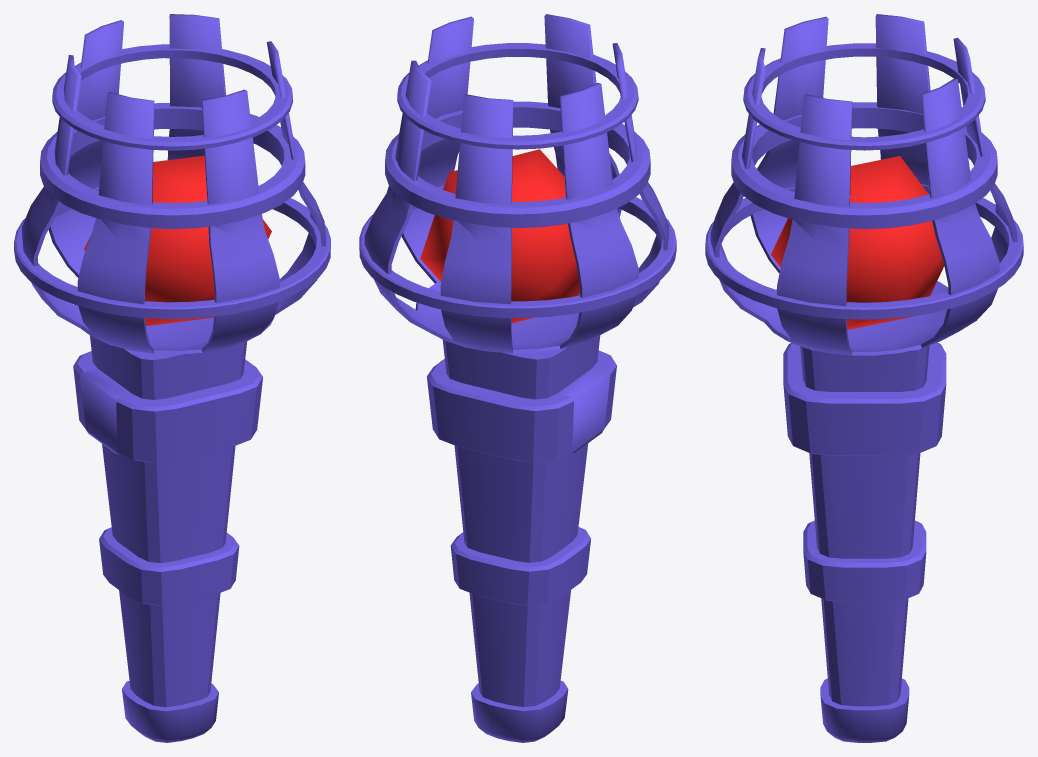
File: Torch.fbx
3 renders of one model, left to right at view 1: azimuth 30°, elevation 25°; view 2: azimuth 150°, elevation 25°; view 3: azimuth 270°, elevation 25°, orthographic.
Visible parts, largest first — view 1: SM_tourch; view 2: SM_tourch; view 3: SM_tourch.
Boxes of the visible parts, x1,y1,x2,y2 form: SM_tourch: (14,14,330,742); SM_tourch: (359,14,676,742); SM_tourch: (705,14,1023,742).
Size of the model in its own units: 73.71 by 173 by 73.77.
